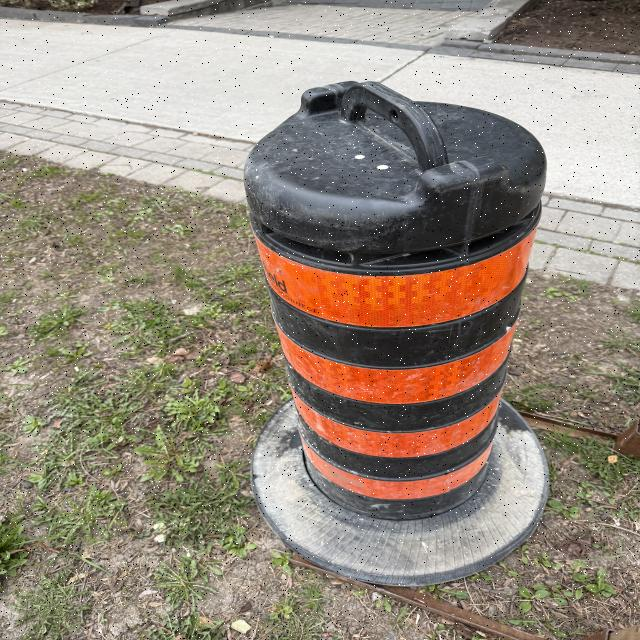Teraffic Barrel: (245, 82, 546, 584)
